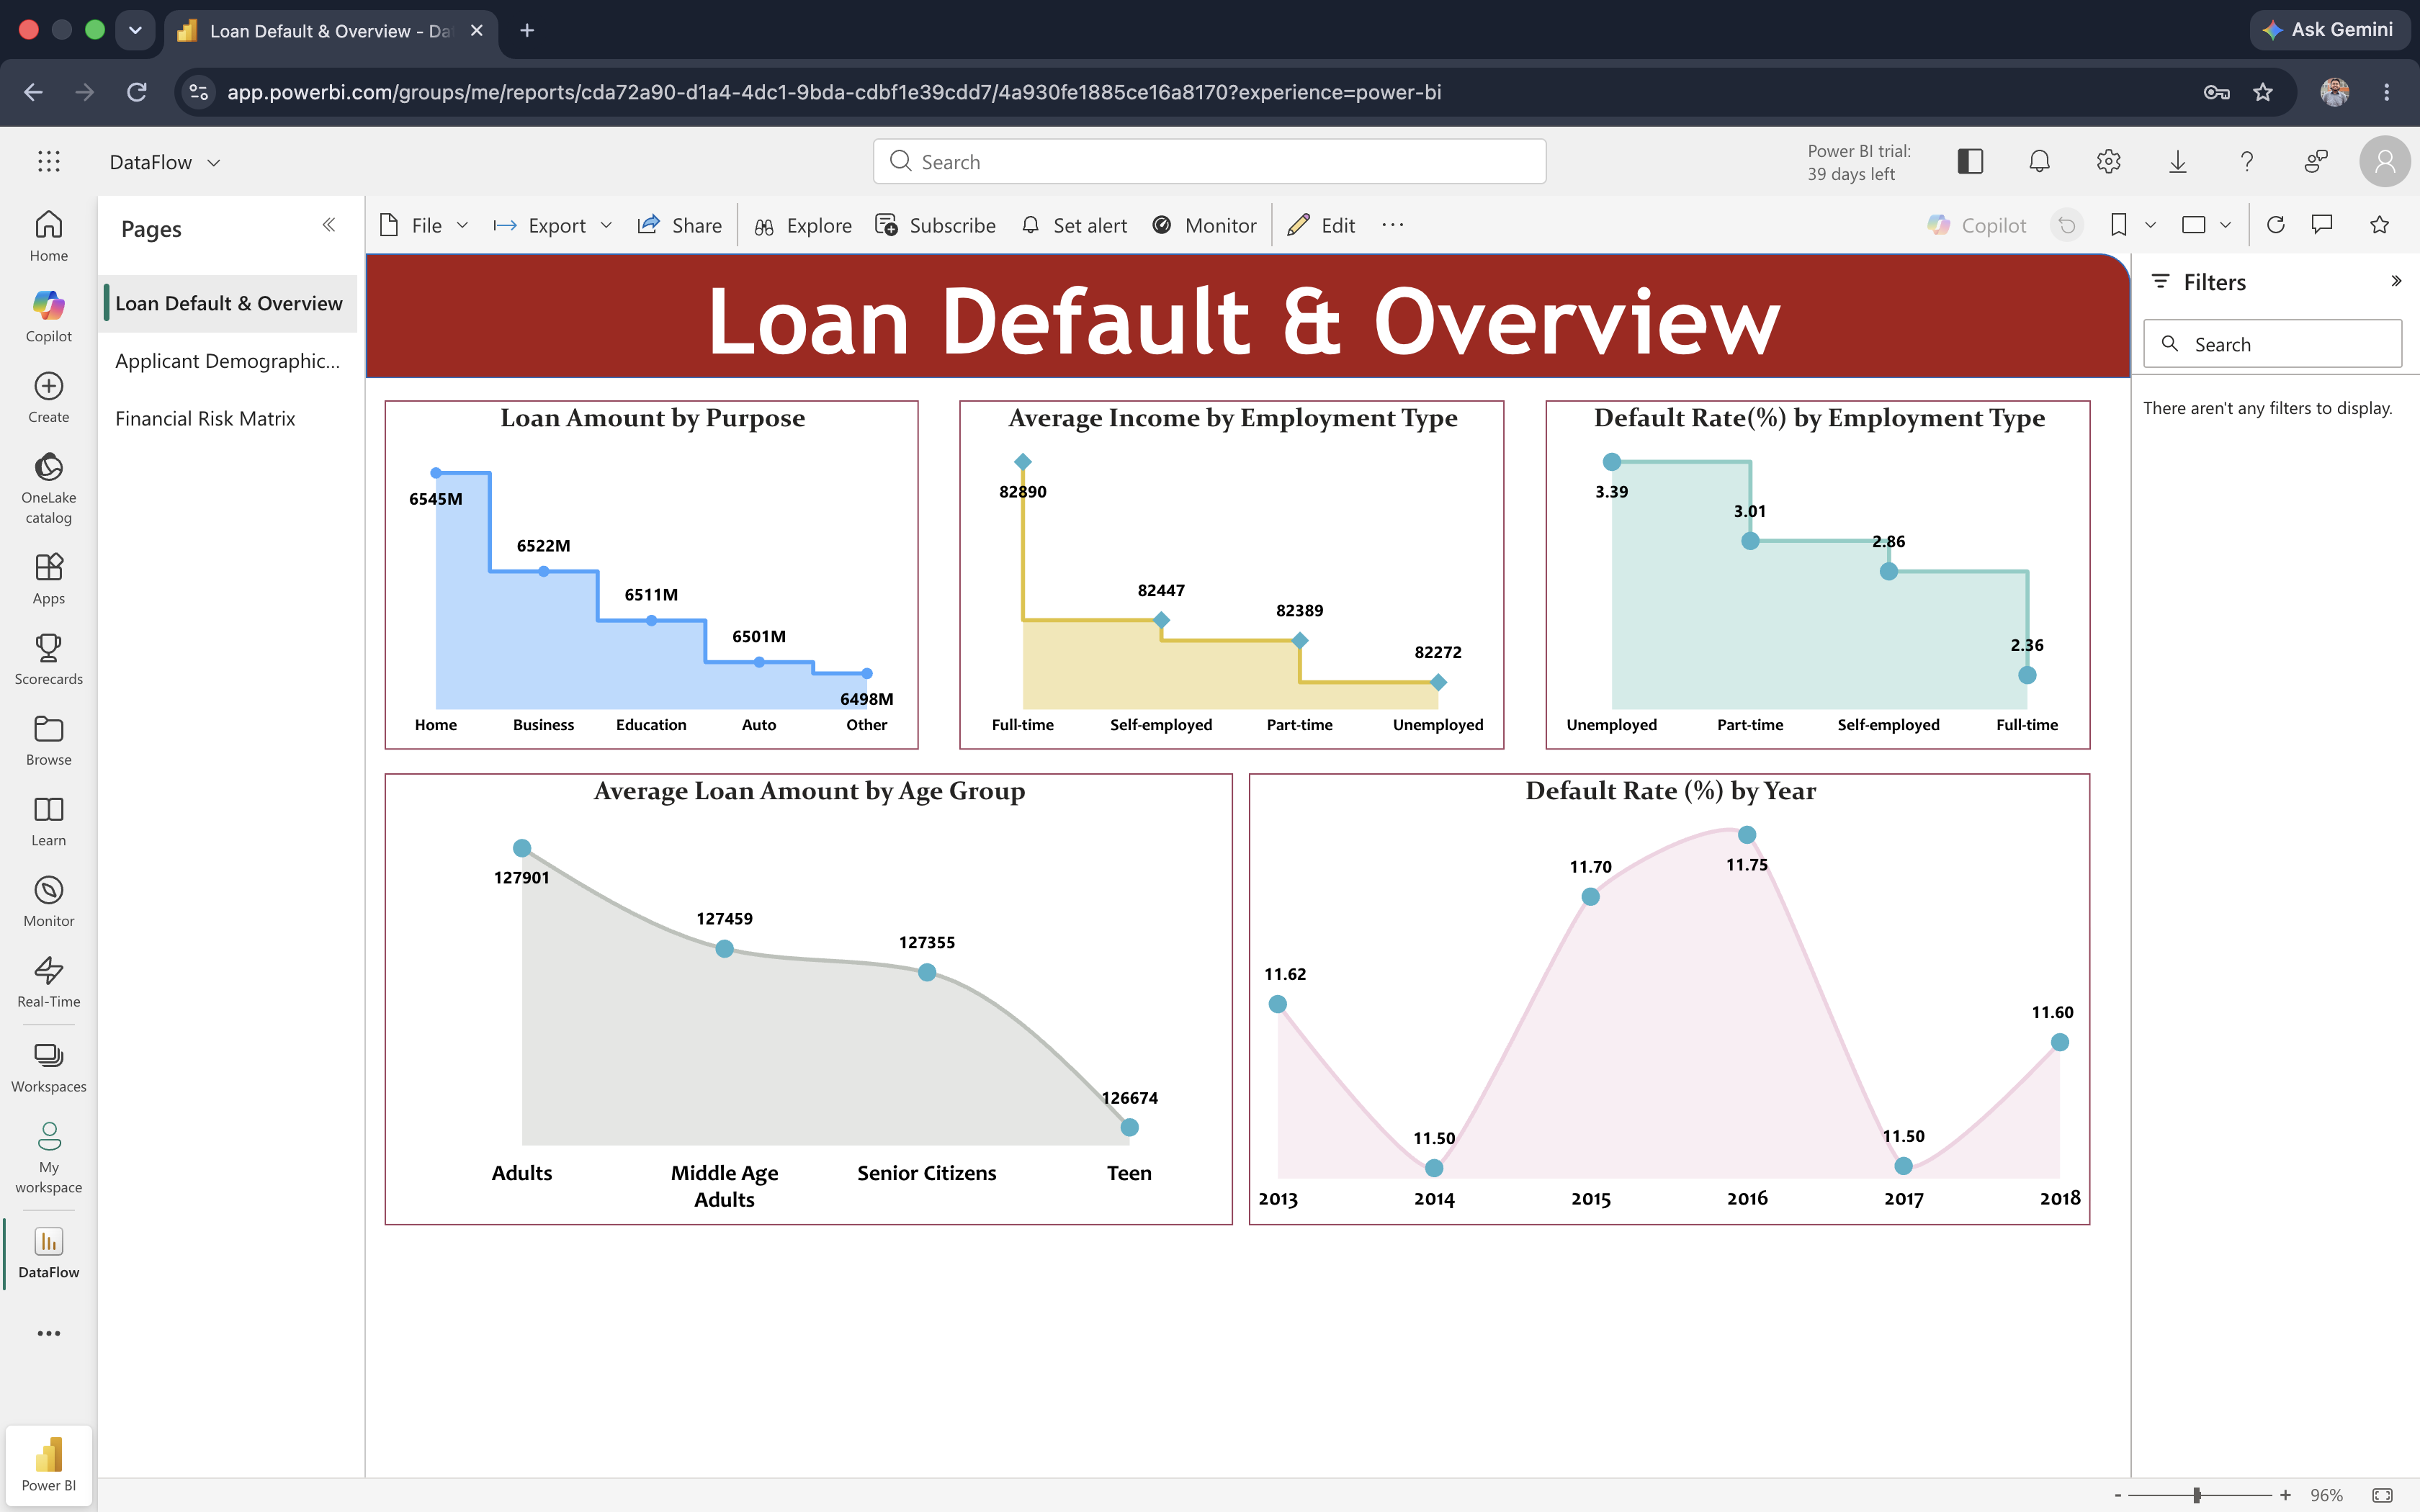

This screenshot's page, from the dashboard's own definition file:
{"tool":"powerbi","page":{"name":"Loan Default & Overview","canvas":[1280,720],"ordinal":0},"visuals":[{"type":"shape","box":[0,0,1280.3,90.6],"z":0},{"type":"lineChart","title":"Loan Amount by Purpose","fields":{"Y":["Measures Table 1.Loan Amount by Purpose"],"Category":["Loan_default.LoanPurpose"]},"box":[13.3,106.2,387.3,253.3],"z":1000},{"type":"lineChart","title":"Average Income by Employment Type","fields":{"Y":["Measures Table 1.Average Income by Employement Type"],"Category":["Loan_default.EmploymentType"]},"box":[430.1,106.2,395.7,253.3],"z":2000},{"type":"lineChart","title":"Default Rate(%) by Employment Type","fields":{"Y":["Measures Table 1.Default Rate ny Employment Type"],"Category":["Loan_default.EmploymentType"]},"box":[855.4,106.2,395.7,253.3],"z":3000},{"type":"lineChart","title":"Average Loan Amount by Age Group","fields":{"Y":["Measures Table 1.Average Loan by Age Group"],"Category":["Loan_default.Age Groups"]},"box":[13.3,377.6,615.3,328.1],"z":4000},{"type":"lineChart","title":"Default Rate (%) by Year","fields":{"Y":["Measures Table 1.Default Rate by Year"],"Category":["Loan_default.Year"]},"box":[640.6,377.6,610.5,328.1],"z":5000}]}

Visuals, with their boxes on the page's 1280x720 design canvas (x1, y1, x2, y2). These are canvas units, not pixel positions in the 2420x1512 screenshot, which may show the page scaled, cropped or inside an application window:
shape: select_region(0, 0, 1280, 91)
"Loan Amount by Purpose" lineChart: select_region(13, 106, 401, 360)
"Average Income by Employment Type" lineChart: select_region(430, 106, 826, 360)
"Default Rate(%) by Employment Type" lineChart: select_region(855, 106, 1251, 360)
"Average Loan Amount by Age Group" lineChart: select_region(13, 378, 629, 706)
"Default Rate (%) by Year" lineChart: select_region(641, 378, 1251, 706)
